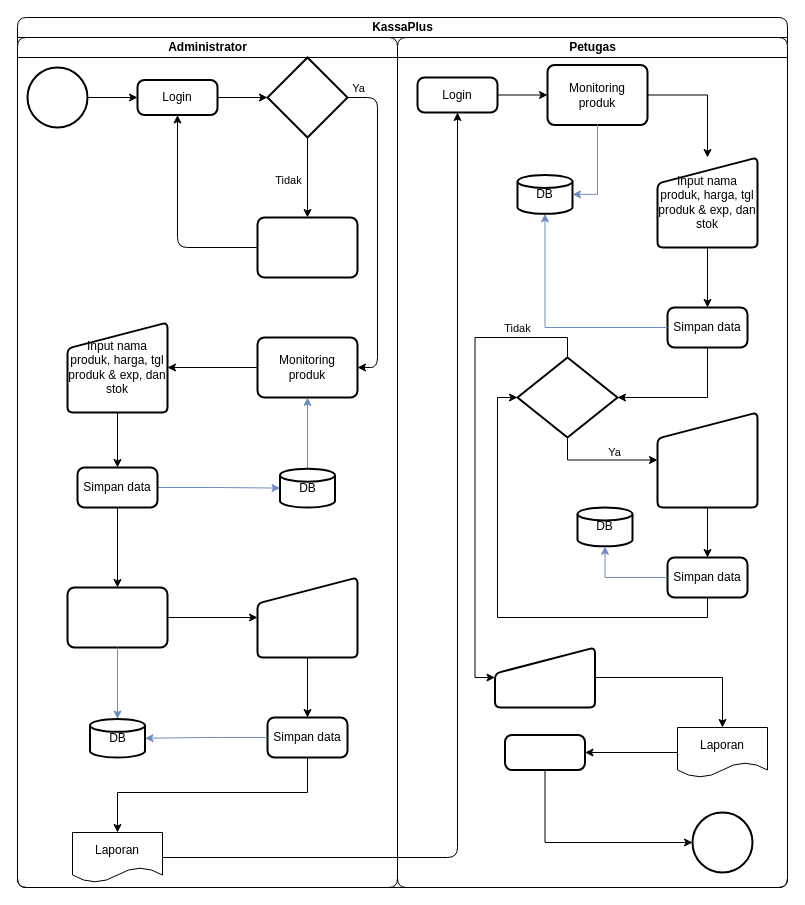
This 805x905 diagram has some shape labels left out. The centre of each missing label's shape, as x and y in pixels:
"End" belongs at [722,842].
"Input nama pelanggan, alamat, dan nomor telepon" belongs at [707,459].
"Input username, password, dan peran" belongs at [307,617].
"Logout" belongs at [545,752].
"Monitoring user" belongs at [117,617].
"Registrasi" belongs at [307,247].
"Registrasi pelanggan?" belongs at [567,397].
"Start" belongs at [57,97].
"Sudah punya akun?" belongs at [307,97].
"Transaksi" belongs at [545,677].
